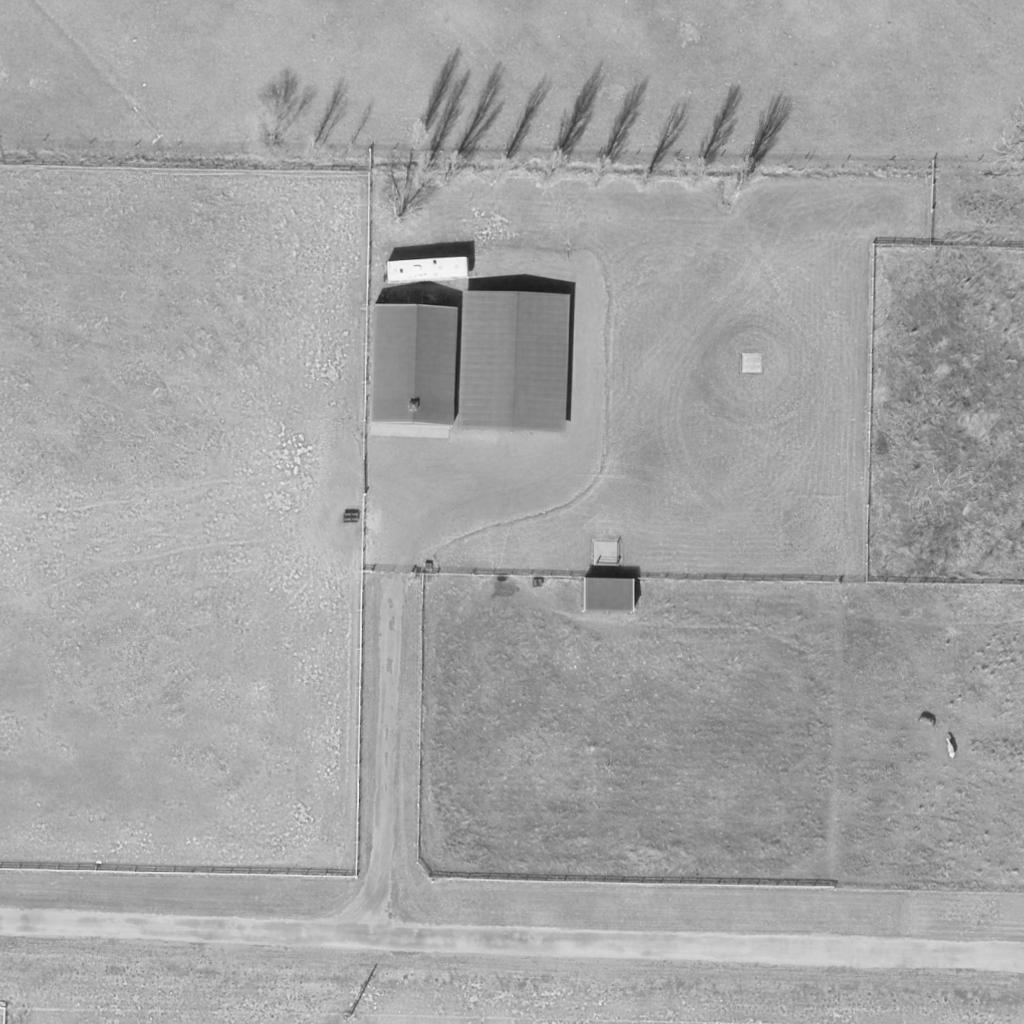vehicle: (386, 258, 470, 284)
